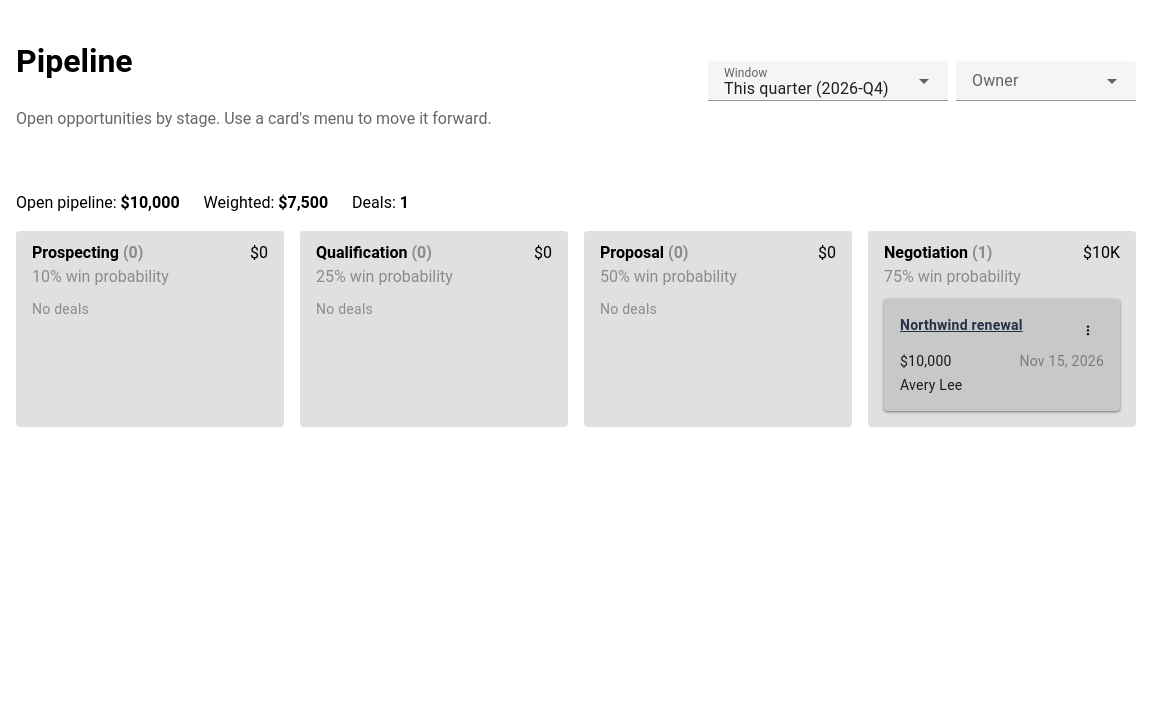
Test: PipelineView › moves a deal, confirms and reloads
What coordinates should you click on to do the following:
click the button with test id "deal-actions"
I would click on:
 (1088, 331)
Its box is top-left (1072, 315), bottom-right (1104, 347).
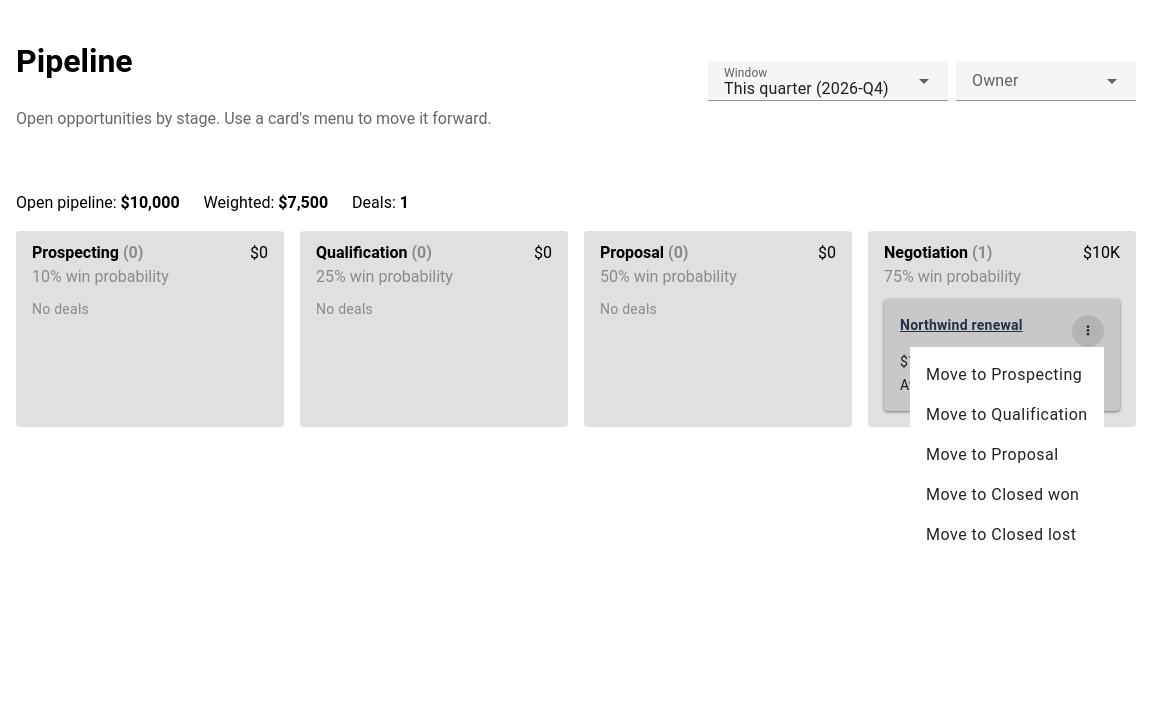
What coordinates should you click on to do the following:
click the list item with test id "move-closed_won"
I would click on:
 (1003, 494)
Its box is top-left (926, 485), bottom-right (1079, 504).
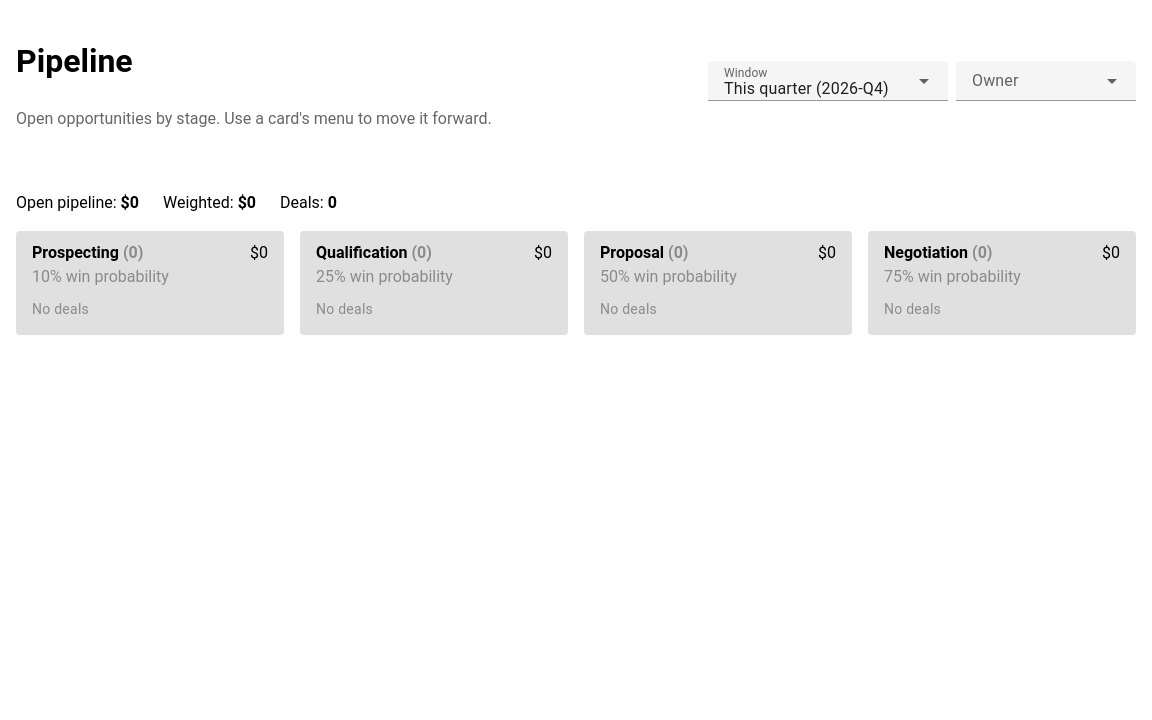
Check: no buttons with test id "deal" are shown
Check: the text with test id "summary-count" reads "0", box top-left (328, 193), bottom-right (337, 212)
